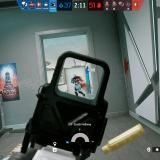Character: (70, 74, 86, 97)
Head: (73, 74, 77, 78)
